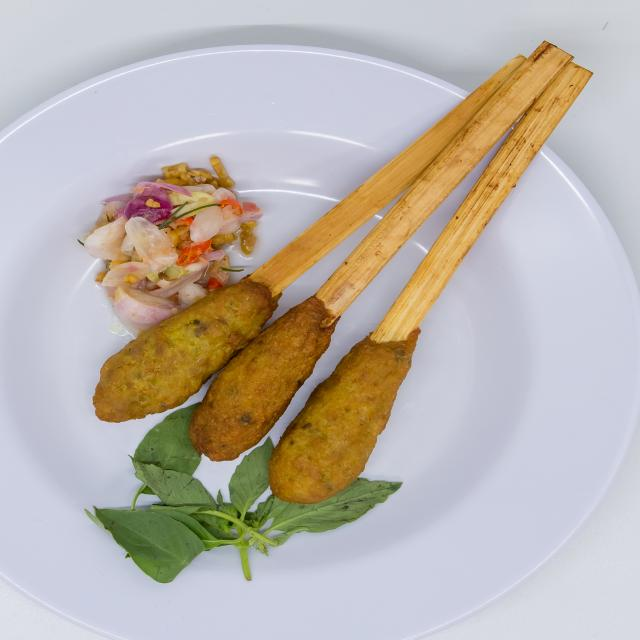Sate-Lilit: (76, 42, 544, 526)
